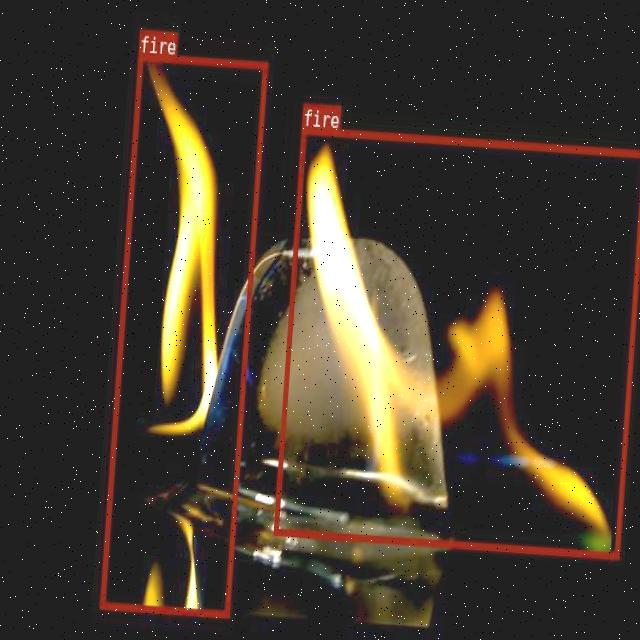fire: (272, 126, 640, 557), (99, 53, 266, 616)
